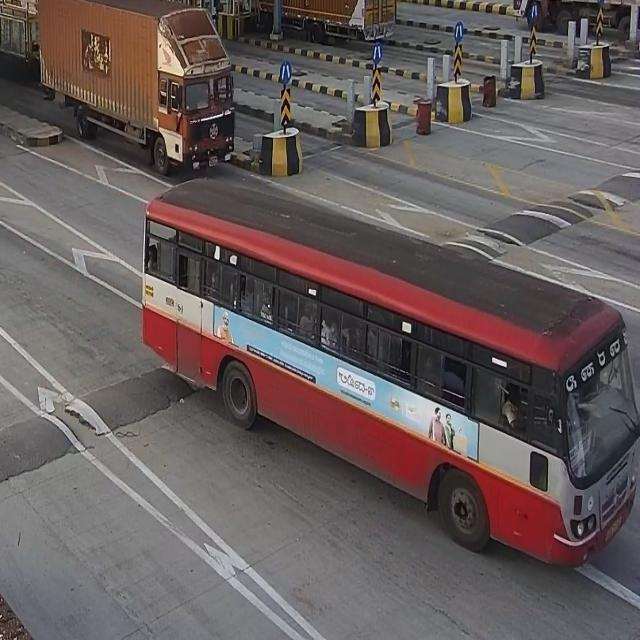Bus: (139, 183, 640, 571)
